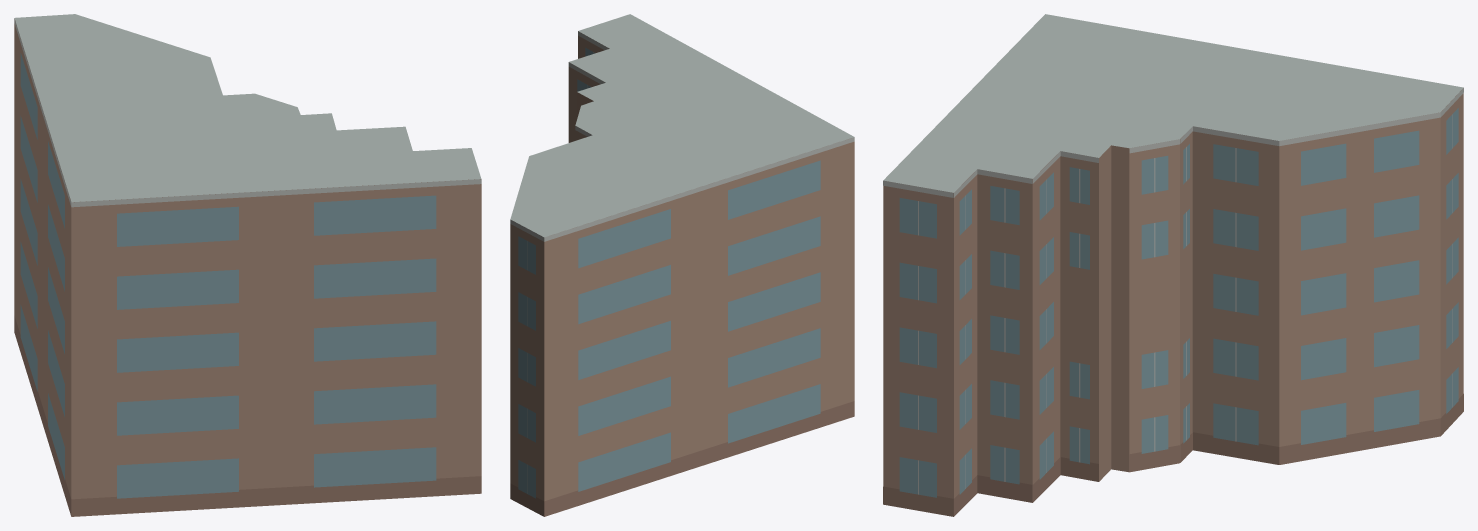
File: survey-upis-32614125.glb
3 renders of one model, left to right at view 1: azimuth 30°, elevation 25°; view 2: azimuth 150°, elevation 25°; view 3: azimuth 270°, elevation 25°, orthographic. The views are drawn at different scales.
Visible parts, largest first — view 1: survey-upis-32614125.tmp; view 2: survey-upis-32614125.tmp; view 3: survey-upis-32614125.tmp.
Part boxes in pixels (x1=…): survey-upis-32614125.tmp: x1=14, y1=14, x2=481, y2=516; survey-upis-32614125.tmp: x1=510, y1=14, x2=854, y2=516; survey-upis-32614125.tmp: x1=883, y1=14, x2=1463, y2=516.
Size of the model in its own units: 18.06 by 15.25 by 24.78.
